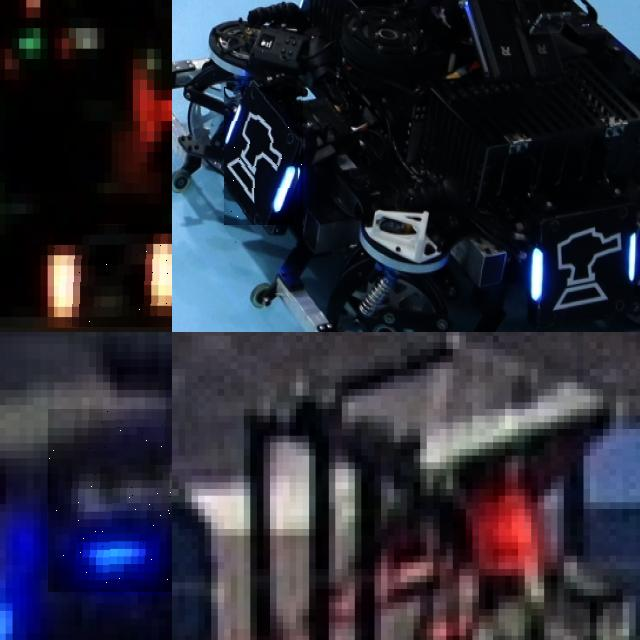B3: (47, 409, 172, 592)
Bs: (224, 87, 304, 225), (530, 216, 638, 318)
Rs: (54, 224, 172, 327)
